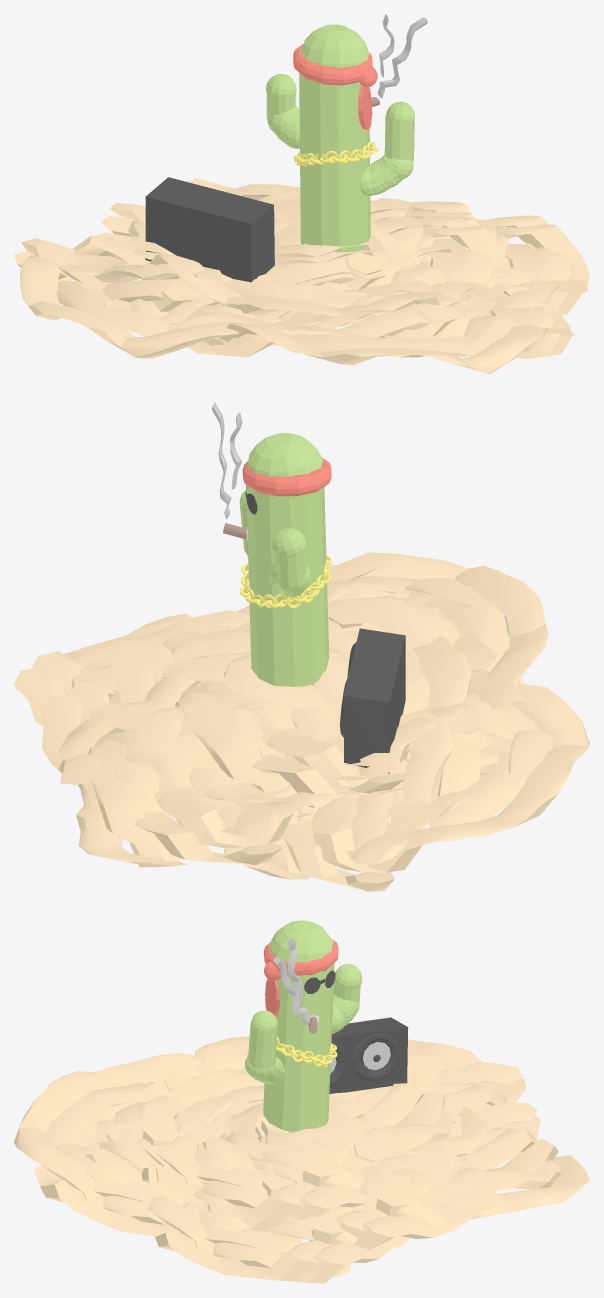
The model's file is cactus.glb.
3 renders of one model, top to bottom at view 1: azimuth 30°, elevation 25°; view 2: azimuth 150°, elevation 25°; view 3: azimuth 270°, elevation 25°, orthographic. The views are drawn at different scales.
Parts seen in each view (by area): view 1: Object_3, Object_9, Object_6, Object_8, Object_5, Object_2; view 2: Object_3, Object_9, Object_6, Object_8, Object_2, Object_5; view 3: Object_3, Object_9, Object_6, Object_5, Object_8, Object_2.
Boxes of the visible parts, bbox=[...] form: Object_3: bbox=[14, 178, 589, 373]; Object_9: bbox=[266, 24, 414, 252]; Object_6: bbox=[145, 177, 274, 282]; Object_8: bbox=[293, 44, 377, 129]; Object_5: bbox=[377, 14, 427, 98]; Object_2: bbox=[293, 142, 378, 166]; Object_3: bbox=[14, 552, 589, 891]; Object_9: bbox=[239, 433, 329, 686]; Object_6: bbox=[245, 485, 405, 773]; Object_8: bbox=[242, 458, 331, 496]; Object_2: bbox=[239, 552, 332, 608]; Object_5: bbox=[212, 402, 242, 519]; Object_3: bbox=[14, 1035, 589, 1283]; Object_9: bbox=[245, 920, 362, 1132]; Object_6: bbox=[304, 970, 408, 1093]; Object_5: bbox=[273, 939, 390, 1073]; Object_8: bbox=[263, 939, 338, 1017]; Object_2: bbox=[276, 1036, 337, 1067].
Size of the model in its own units: 2.94 by 1.7 by 3.14.
